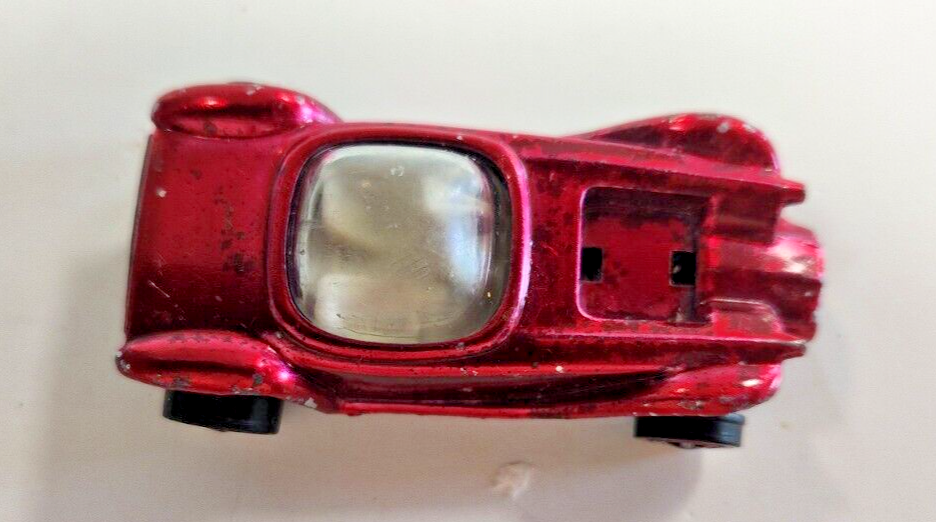Car: (109, 73, 834, 469)
